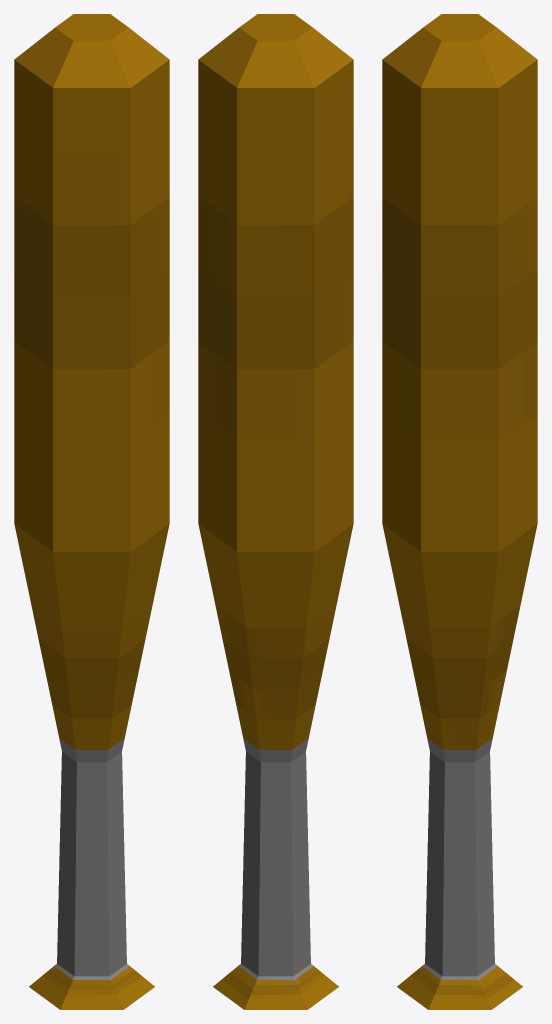
Rendered from Bat.fbx.
3 views of the same model, side by side, from view 1: azimuth 30°, elevation 25°; view 2: azimuth 150°, elevation 25°; view 3: azimuth 270°, elevation 25° (orthographic).
Parts seen in each view (by area): view 1: Cylinder; view 2: Cylinder; view 3: Cylinder.
Boxes of the visible parts, x1,y1,x2,y2 form: Cylinder: (14,14,169,1009); Cylinder: (198,14,353,1009); Cylinder: (382,14,537,1009).
Size of the model in its own units: 86.6 by 681 by 100.
